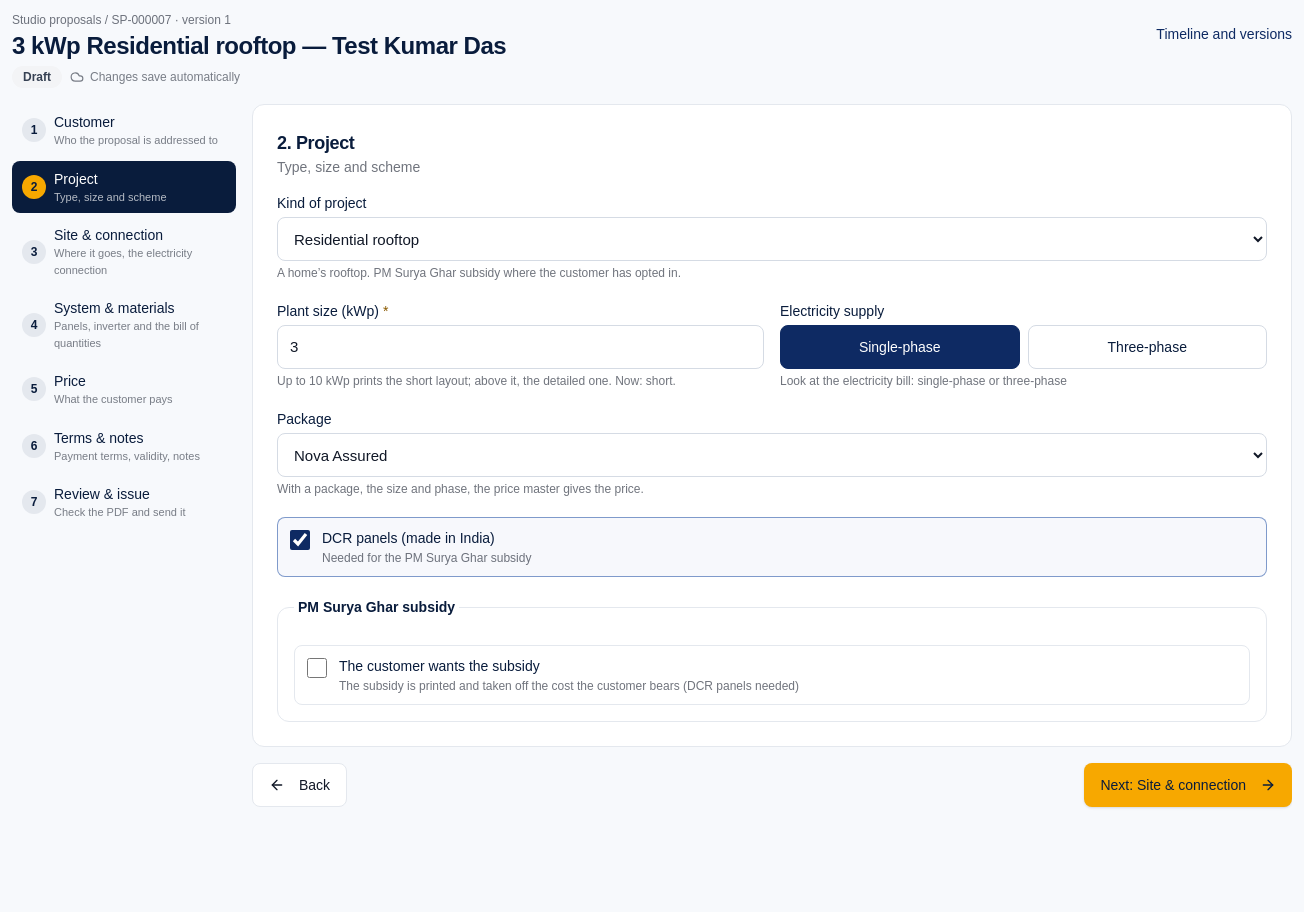
Test: autosave › announces defaulted sections that followed the plant (regenerated until edited)
Expected: the list with test id "wizard-steps" is shown, [12,104,236,532]
Replace the text in the field labelled "Plant size (kWp)*" with "12" at (520, 347), box [277,325,764,369]
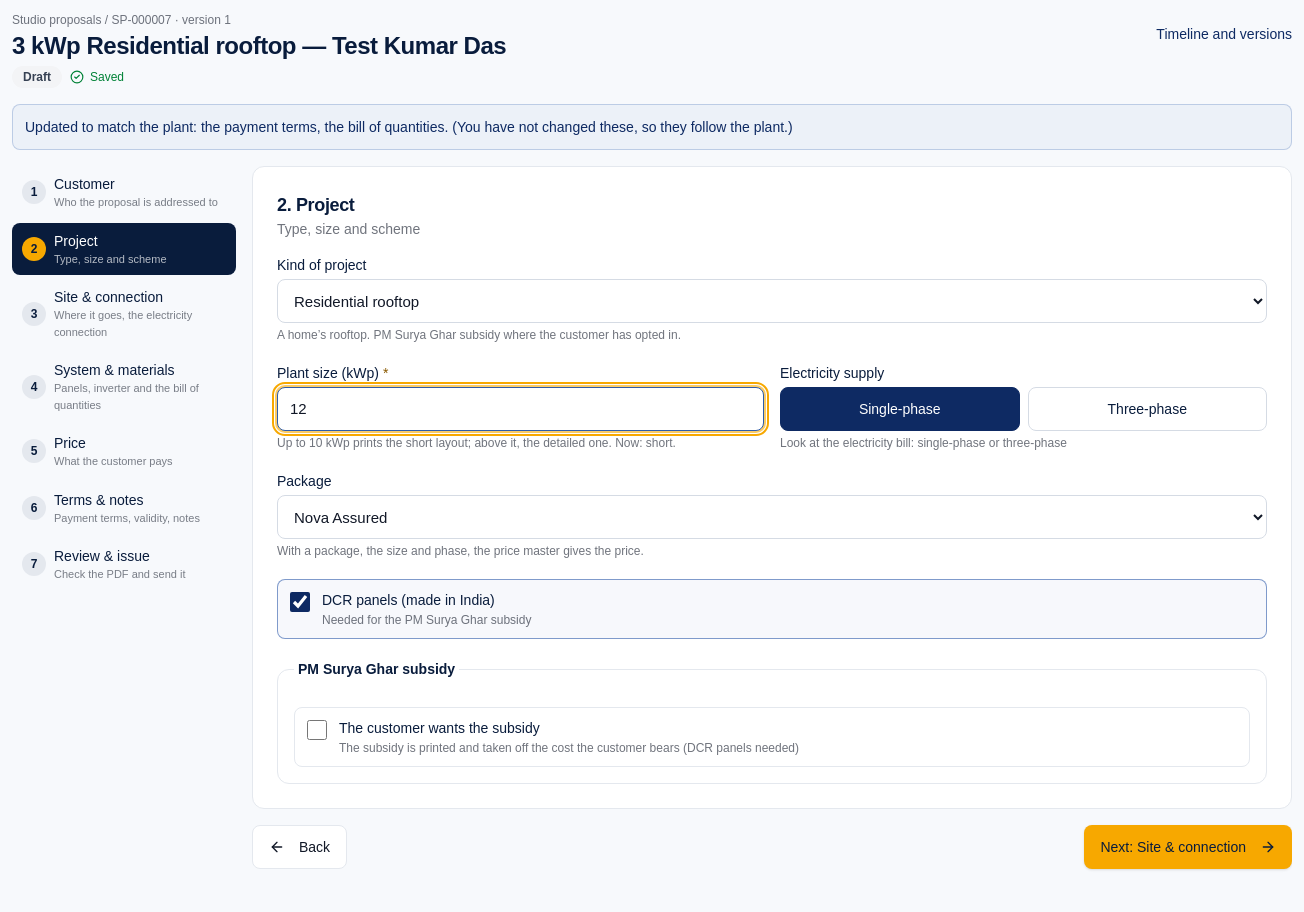
Expected: the message with test id "regenerated" shows "the payment terms, the bill of quantities", [201,119,444,135]
